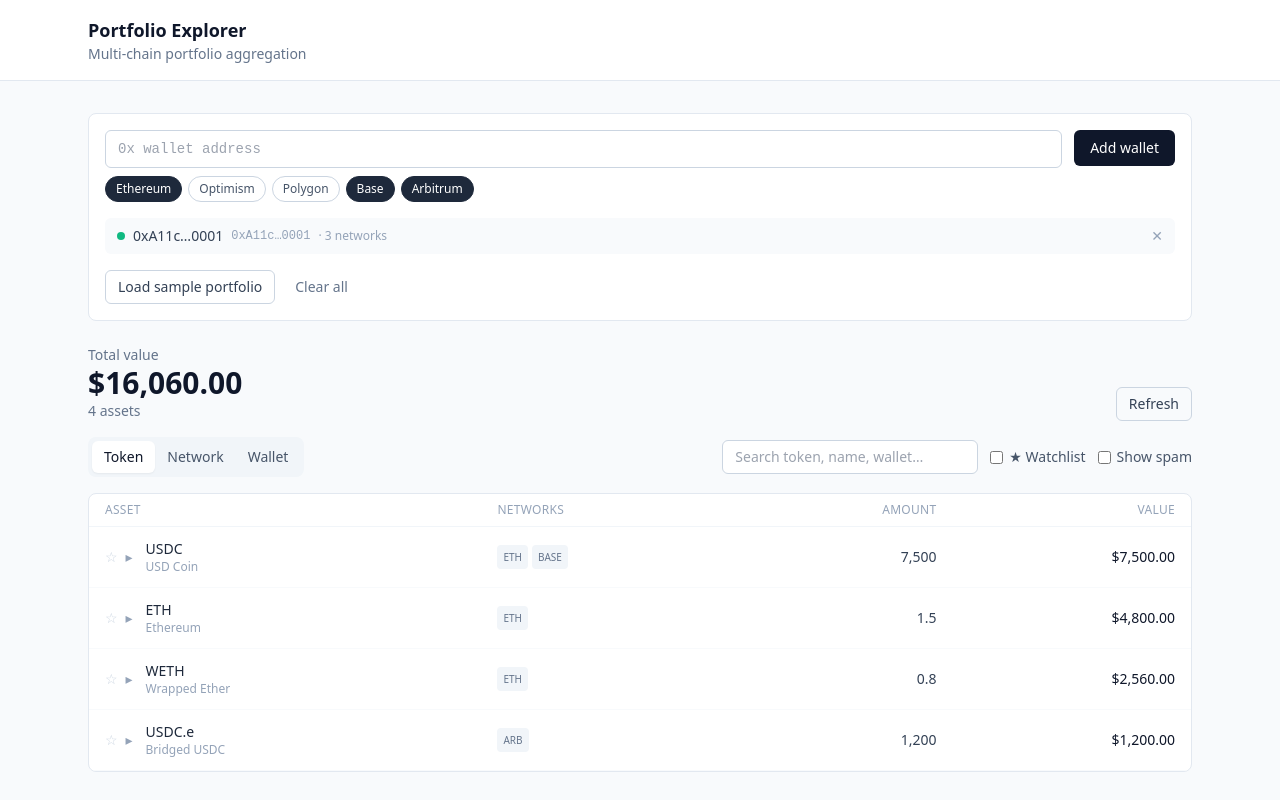
Test: App end-to-end › stars an asset and filters to the watchlist
Check: the text "USDC" is shown, box [146, 539, 183, 558]
Check: the text "WETH" is shown, box [146, 661, 185, 680]
What coordinates should you click on to do the following:
click the button named "watch WETH"
I would click on:
 (111, 679)
Its box is [105, 669, 118, 689].
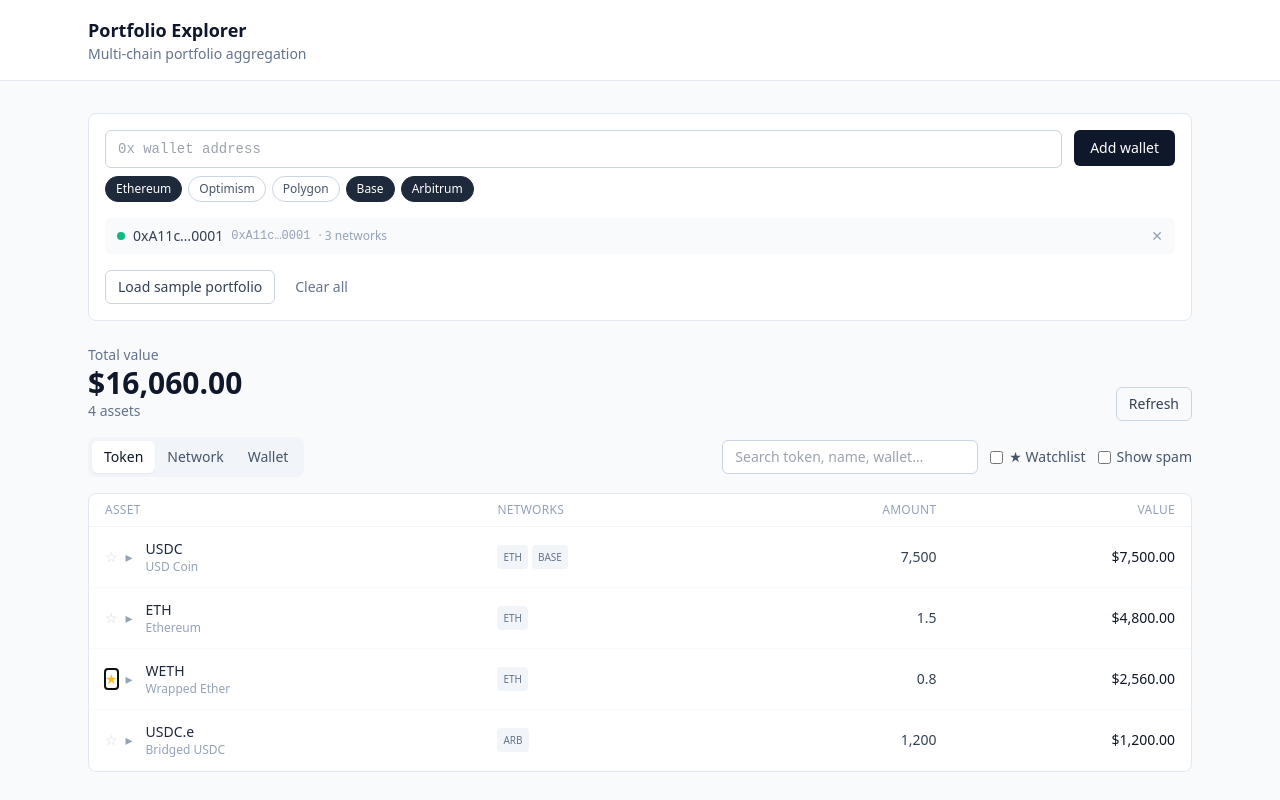
What coordinates should you click on to do the following:
click the checkbox labelled "★ Watchlist"
I would click on:
 (997, 457)
Its box is [990, 450, 1003, 464].
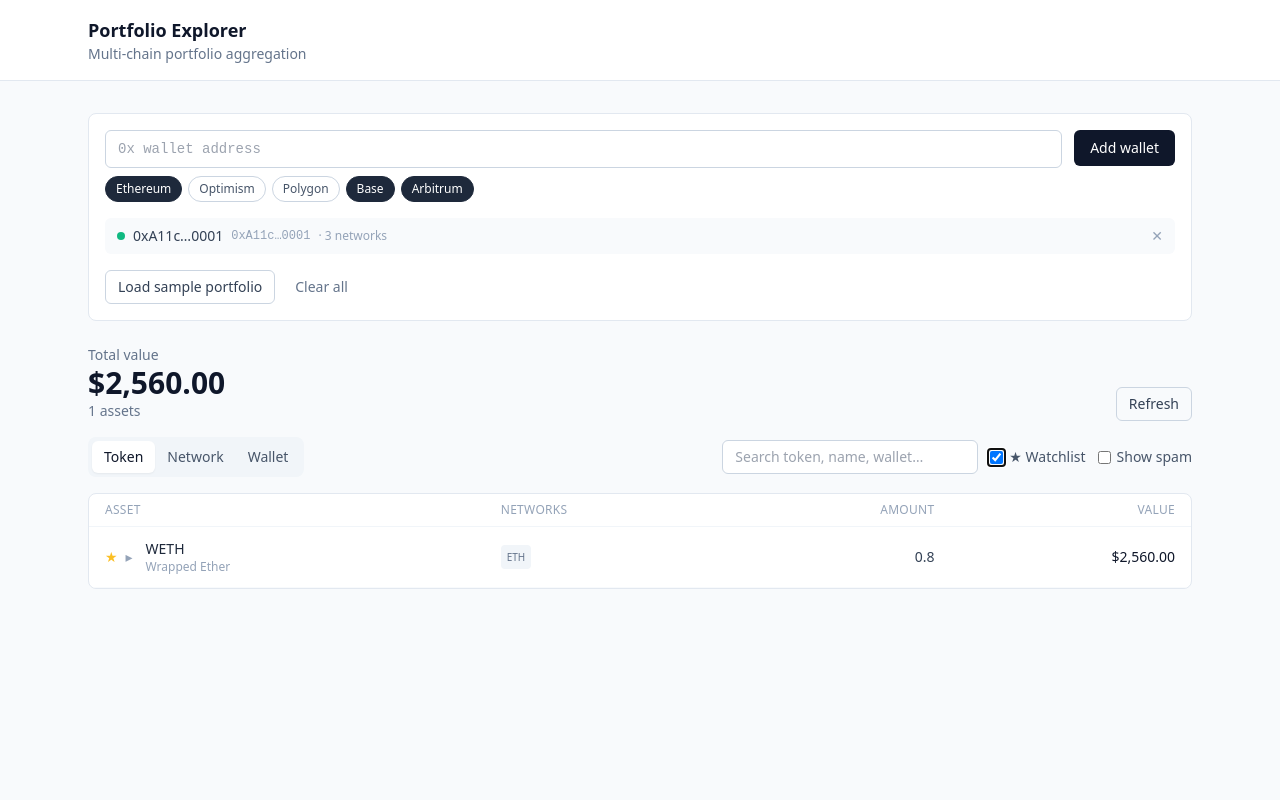
Check: the text "WETH" is shown, box [146, 539, 185, 558]
Check: the text "USDC" is gone
